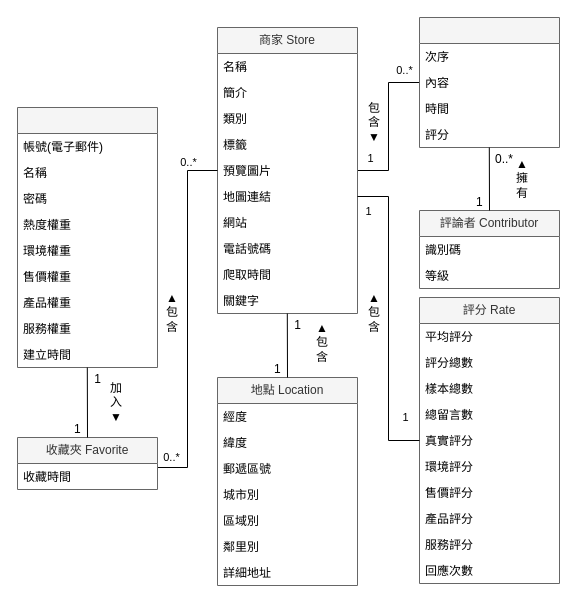
Some shapes in this 585 by 606 pixel diagram are drawn without their labels. The shapes that lost their labels are listed below. From the top down, each one's box as (x1, y1, x2, y2) in pixels, then its label:
(418, 16, 560, 148): 留言 Comment
(16, 106, 158, 368): 會員 Member
